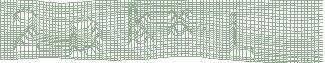2: (9, 7, 42, 53)
D: (65, 16, 104, 59)
L: (226, 11, 257, 59)
k: (125, 1, 156, 49)
x: (166, 8, 195, 39)
